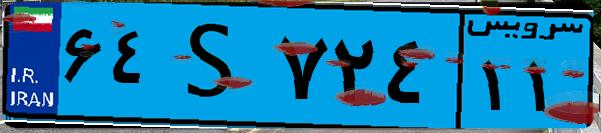1: (475, 38, 525, 113), (525, 38, 570, 115)
2: (330, 28, 385, 110)
4: (385, 28, 445, 110), (110, 28, 158, 98)
6: (57, 26, 110, 100)
7: (270, 28, 330, 110)
S: (158, 12, 270, 120)
